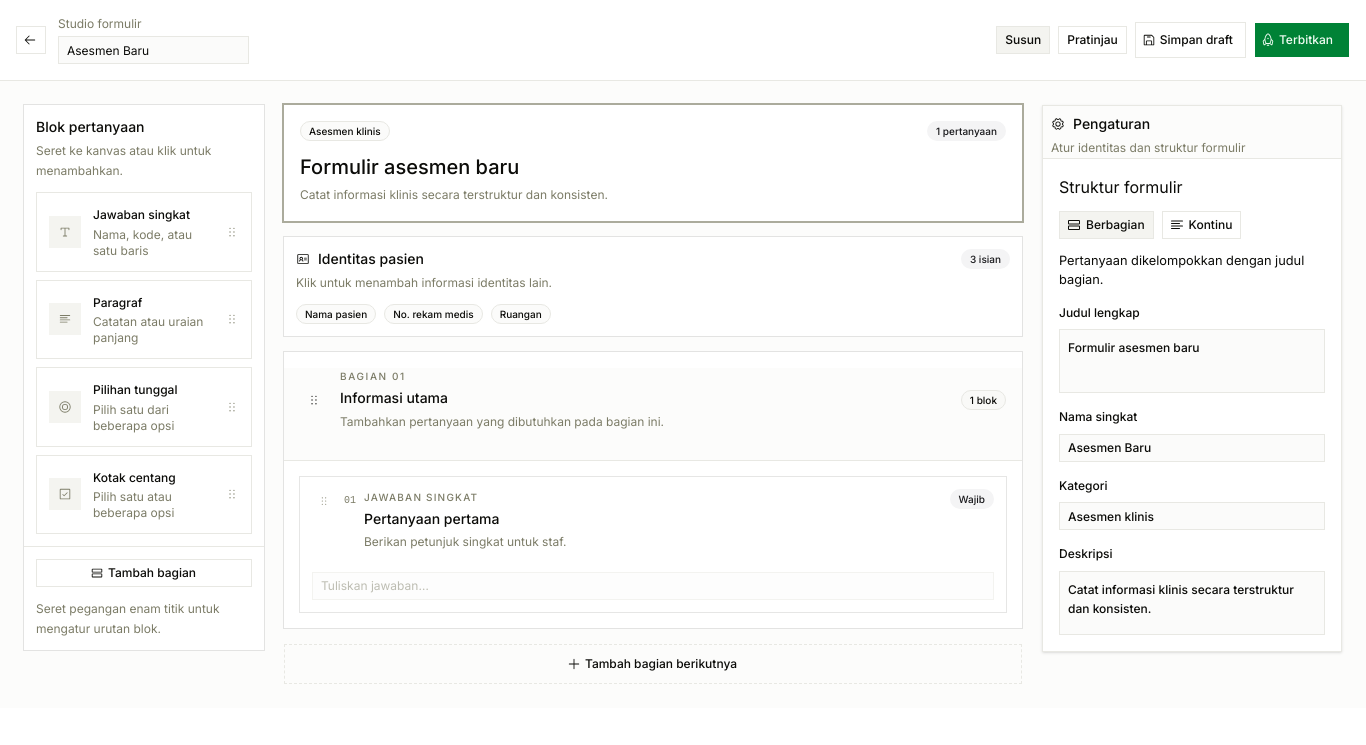
Test case: FormBuilder › previews choice fields with radio buttons and checkboxes
This screenshot has width=1366, height=745.
Step 1. Click the button with aria-label "Seret atau klik untuk menambah Pilihan tunggal" → point(144, 407), box [36,367,252,446]
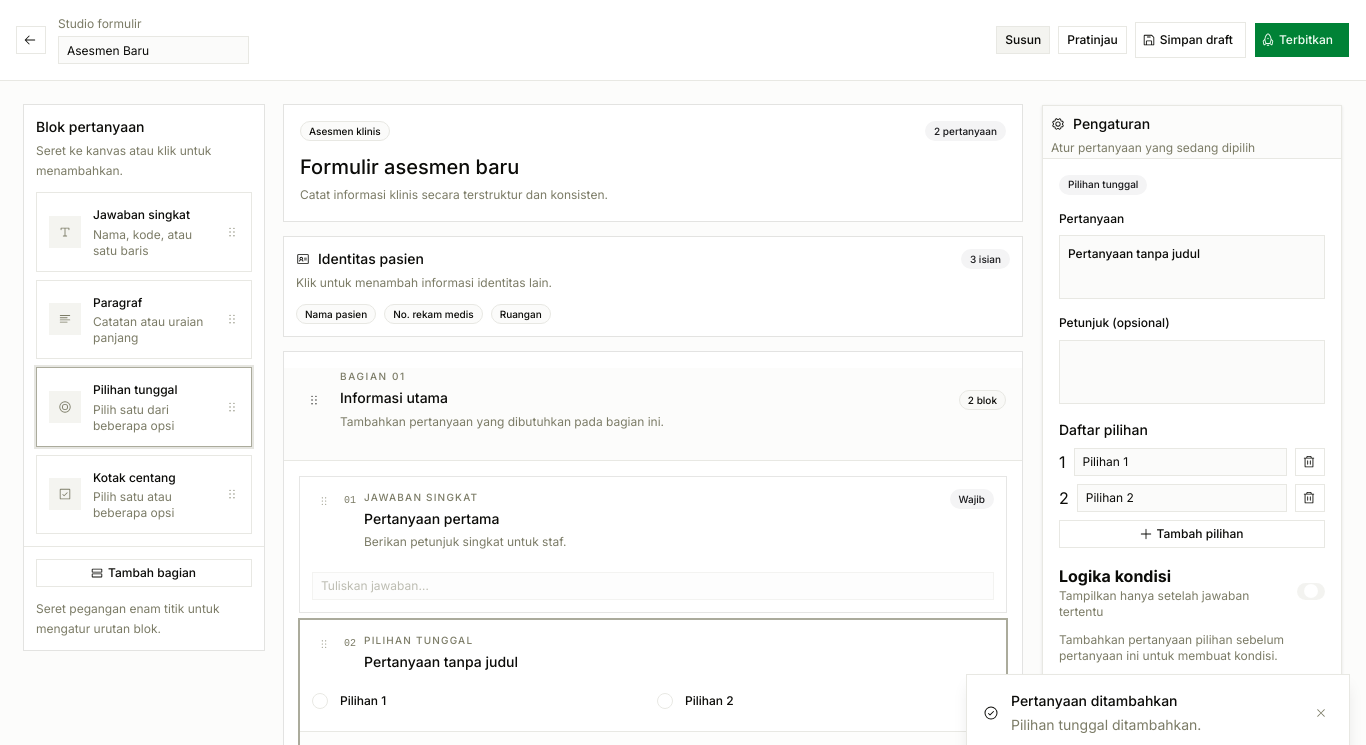
Step 2. Click the button with aria-label "Seret atau klik untuk menambah Kotak centang" → point(144, 494), box [36,454,252,534]
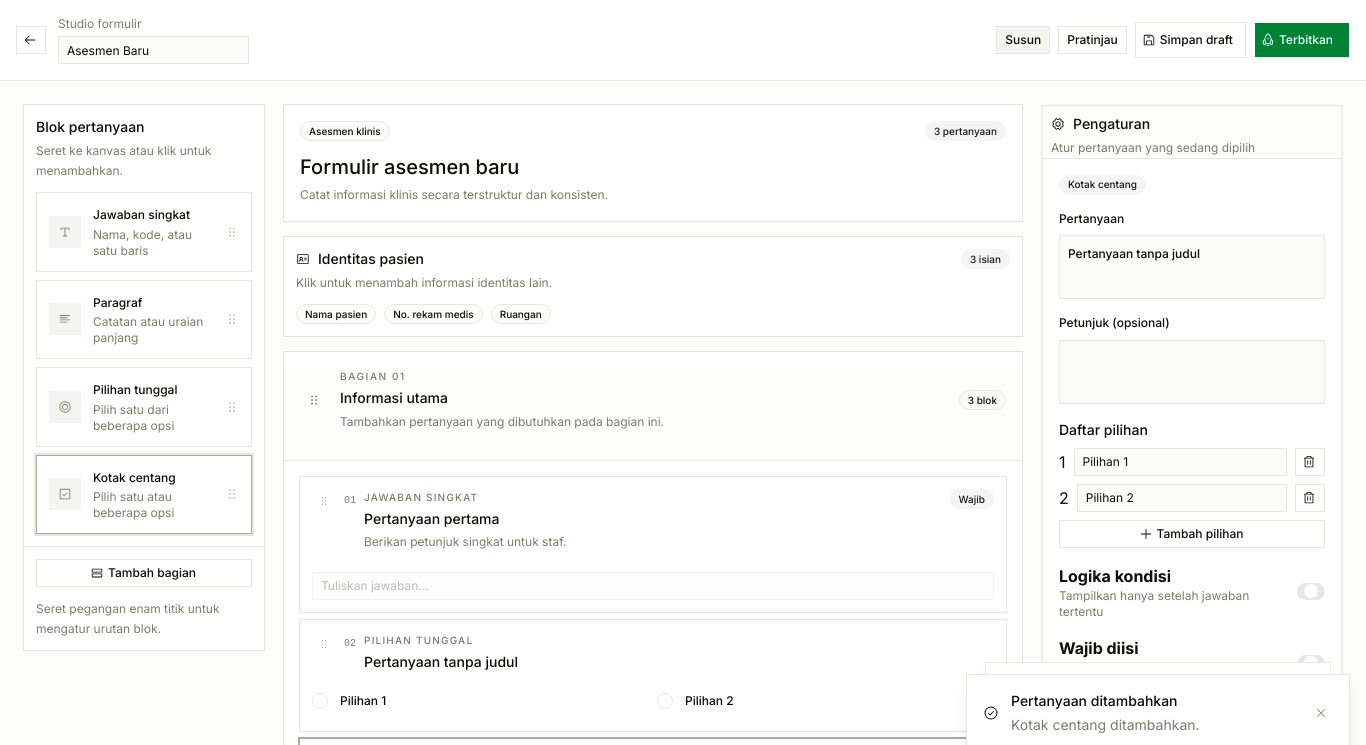
expect the number of radio buttons named "Pilihan 1" is 1: met, box [312,693,328,709]
Step 3. Click the button "Pratinjau" → point(1092, 40), box [1058,26,1127,54]
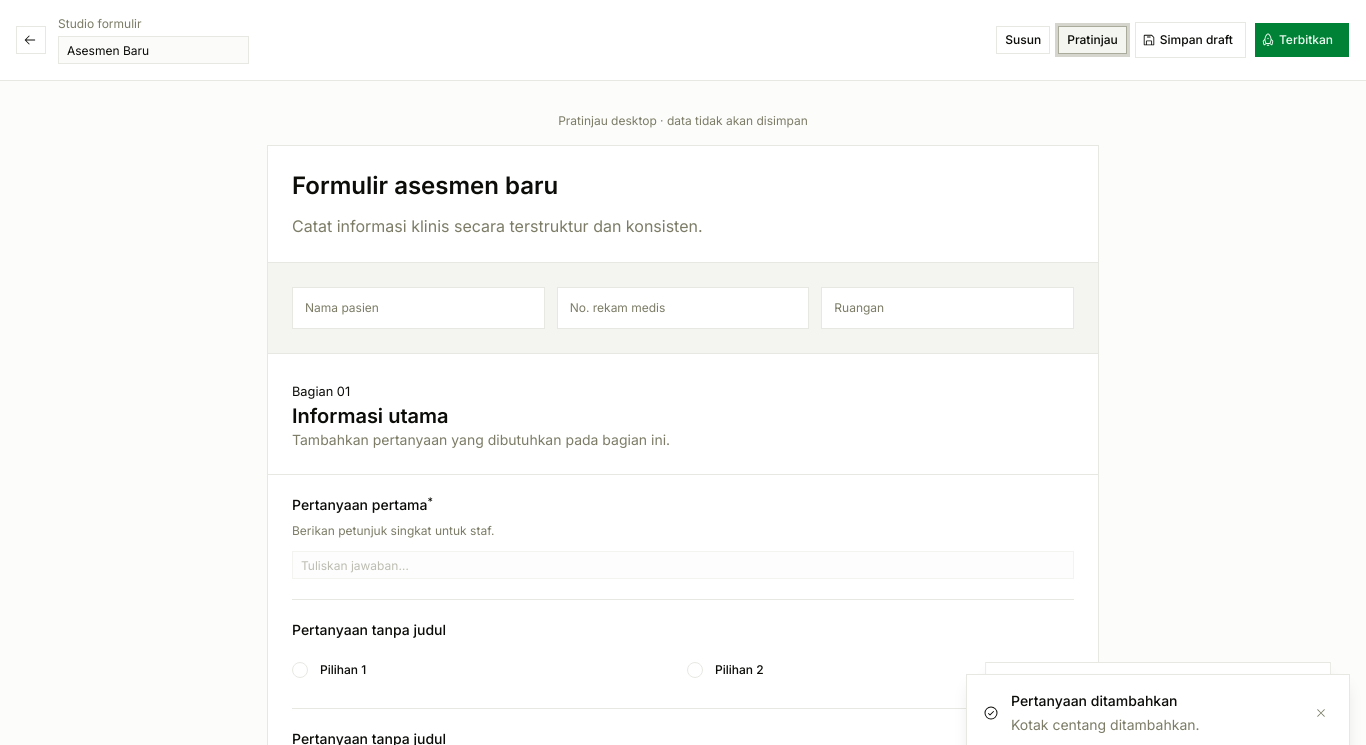
expect the number of radio buttons named "Pilihan 1" is 1: met, box [292,662,308,678]
